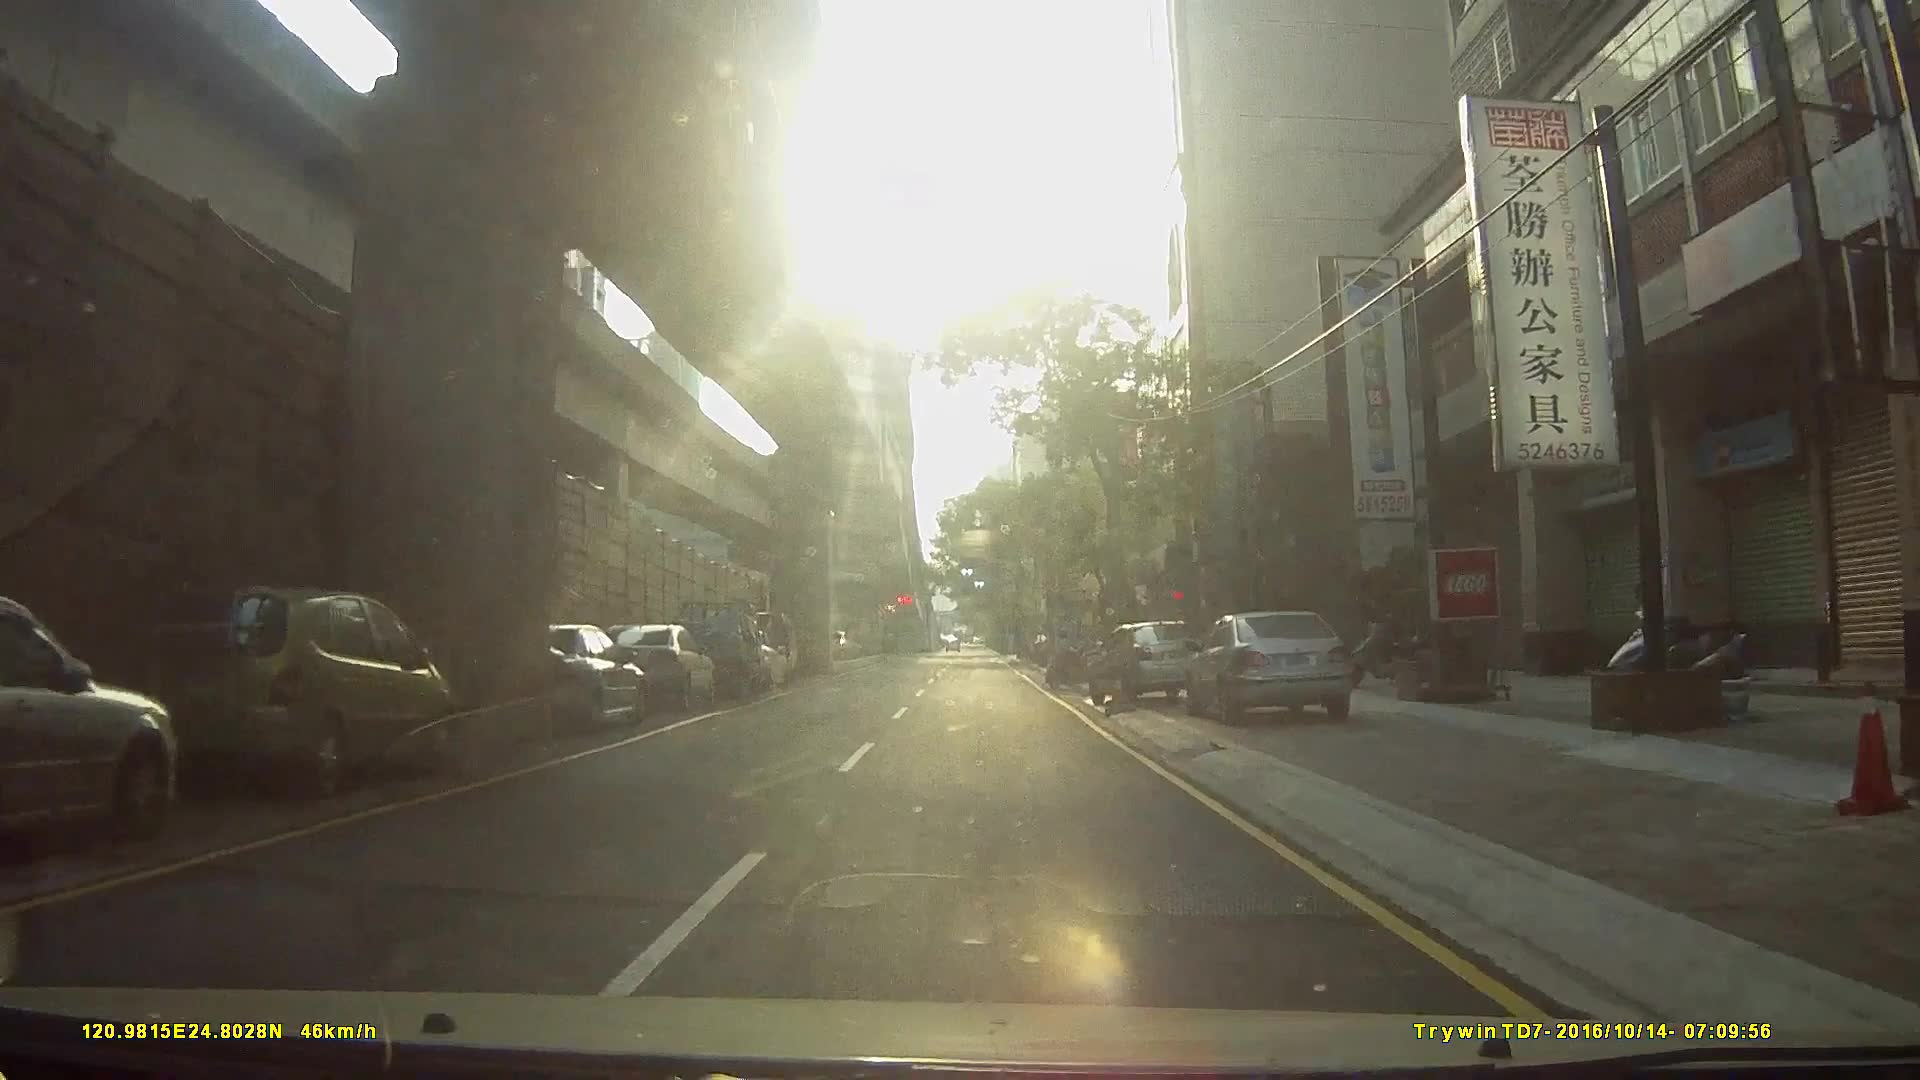rider: (1044, 627, 1096, 688)
vehicle: (119, 582, 444, 805), (1, 588, 175, 861), (1185, 607, 1364, 724), (488, 620, 647, 745), (660, 598, 763, 701), (1086, 618, 1209, 707), (590, 622, 715, 708)
